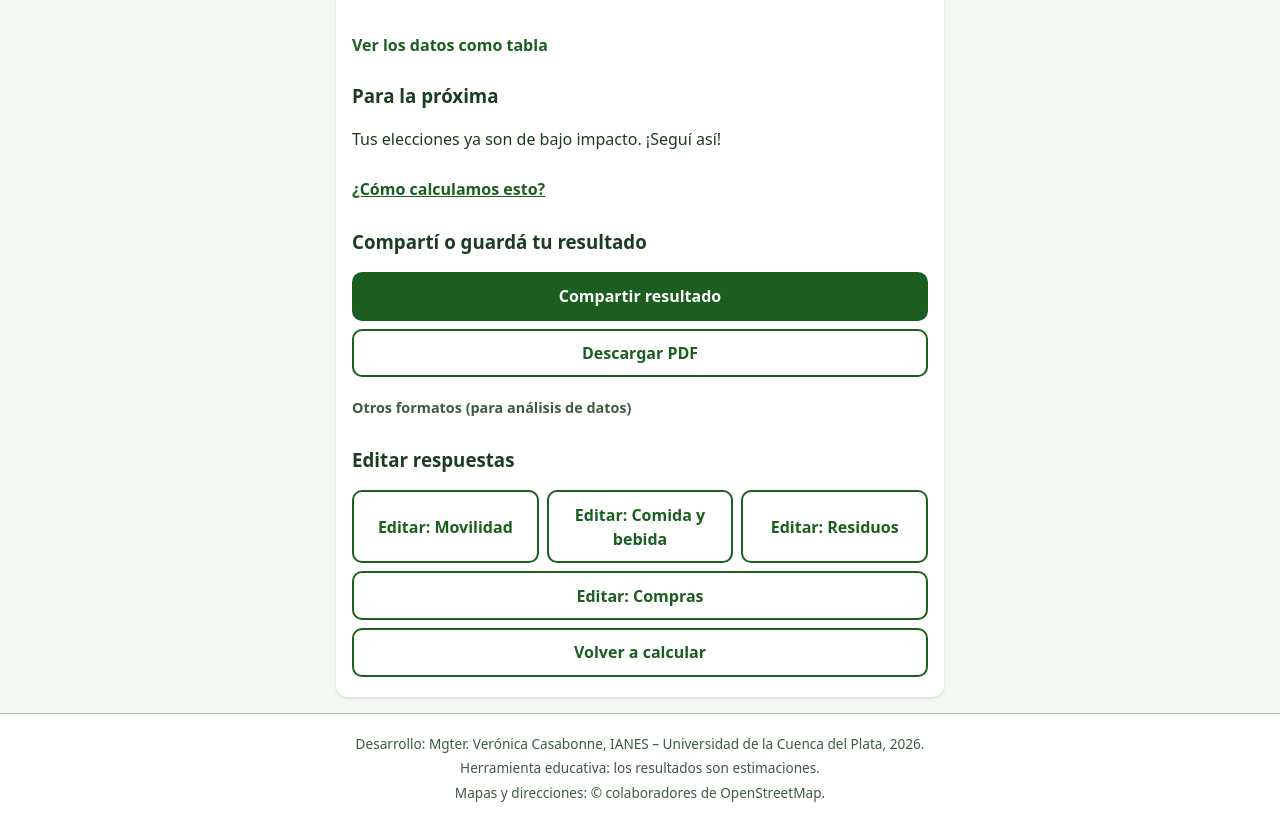
Test: resultados › editar un paso conserva las respuestas
(page scrolled)
Click the button "Editar: Residuos". click: {"x": 835, "y": 527}
box: [741,490,928,563]
(page scrolled)
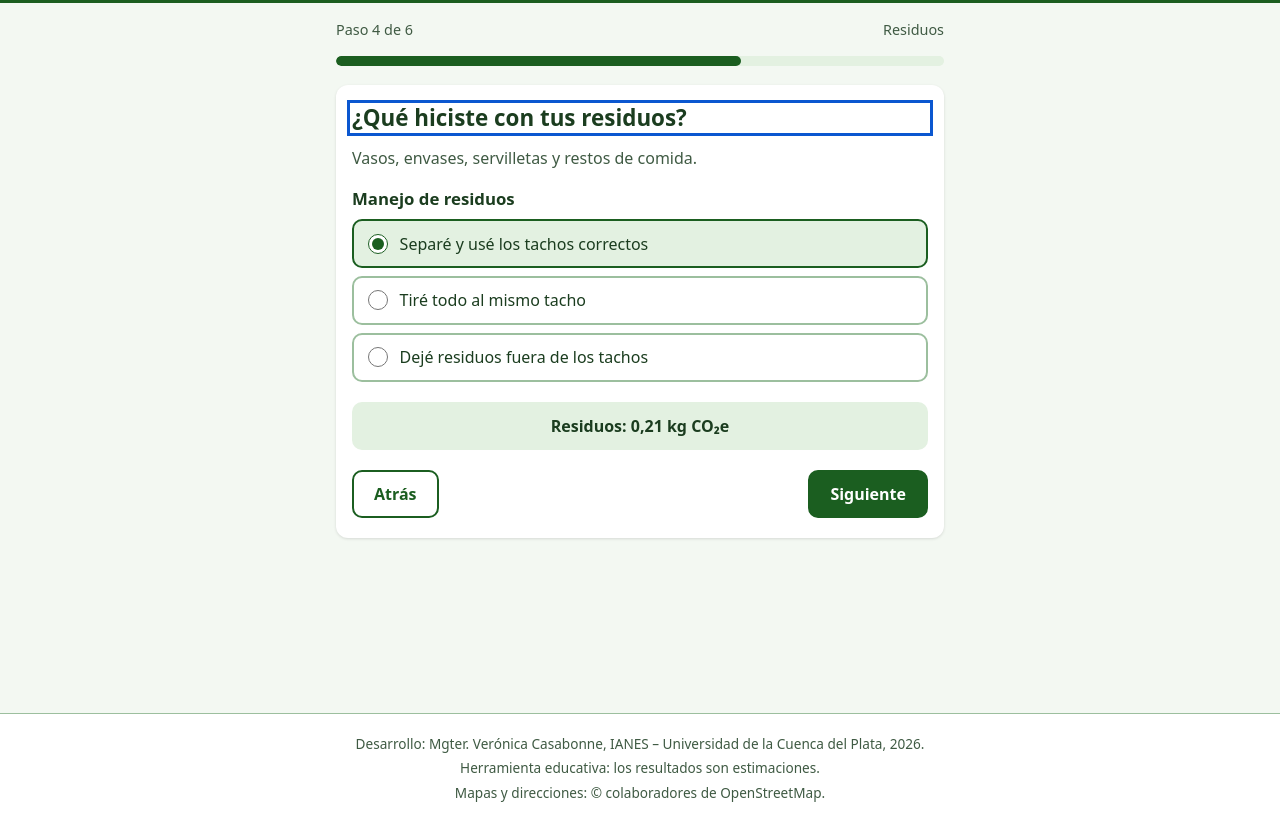
Result: the radio button labelled "Separé y usé los tachos correctos" is checked at [368,234,388,254]
